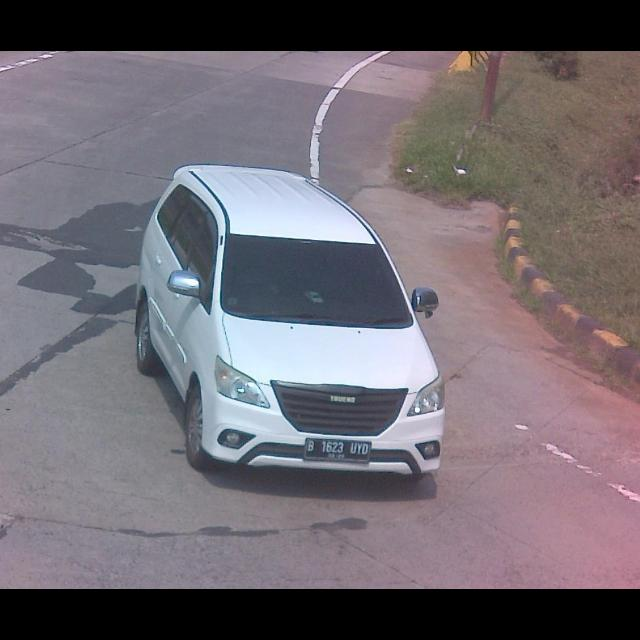plate: (302, 434, 376, 466)
